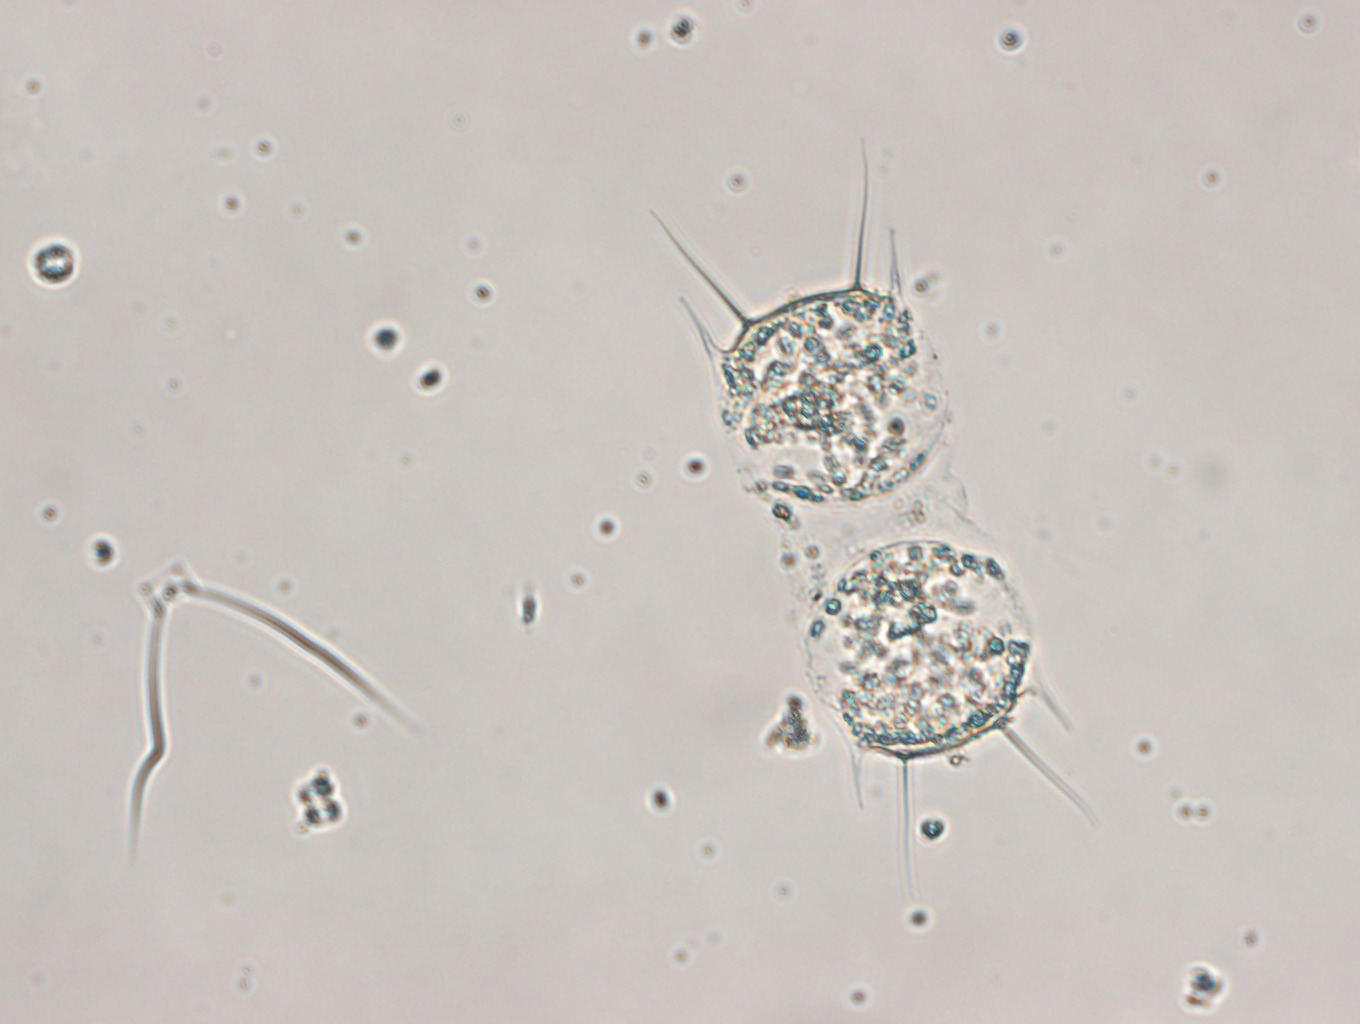biddulphia: (644, 137, 1099, 888)
